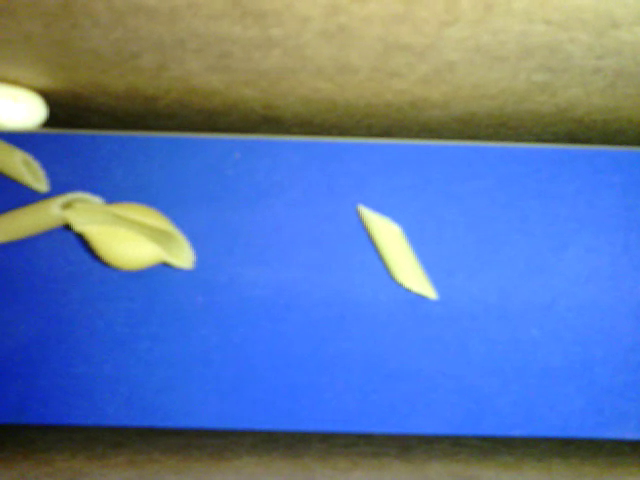penne: (357, 204, 438, 300), (1, 190, 106, 241), (1, 139, 50, 192)
shell: (64, 201, 196, 272)
